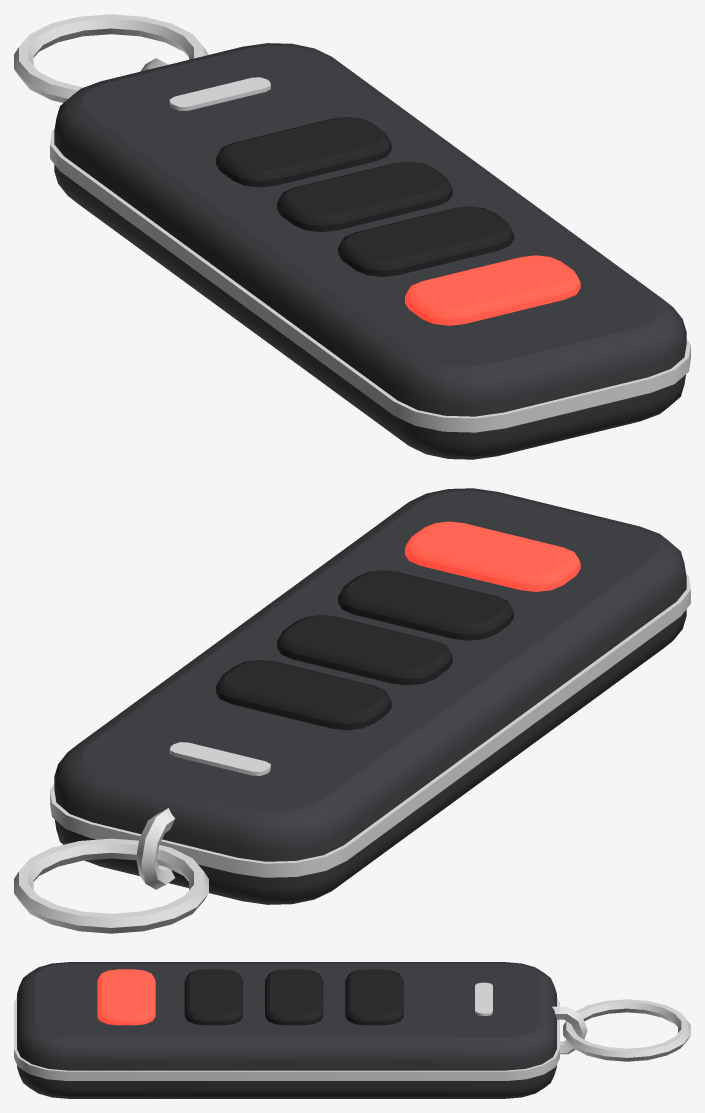
File: nz_keyfob_slim.glb
3 views of the same model, one above another, from view 1: azimuth 30°, elevation 25°; view 2: azimuth 150°, elevation 25°; view 3: azimuth 270°, elevation 25° (orthographic). The views are drawn at different scales.
Visible parts, largest first — view 1: nz_keyfob_slim; view 2: nz_keyfob_slim; view 3: nz_keyfob_slim.
Boxes of the visible parts, x1,y1,x2,y2 form: nz_keyfob_slim: (14, 14, 690, 459); nz_keyfob_slim: (14, 488, 690, 933); nz_keyfob_slim: (14, 962, 690, 1098).
Size of the model in its own units: 0.0298 by 0.0103 by 0.0928.
